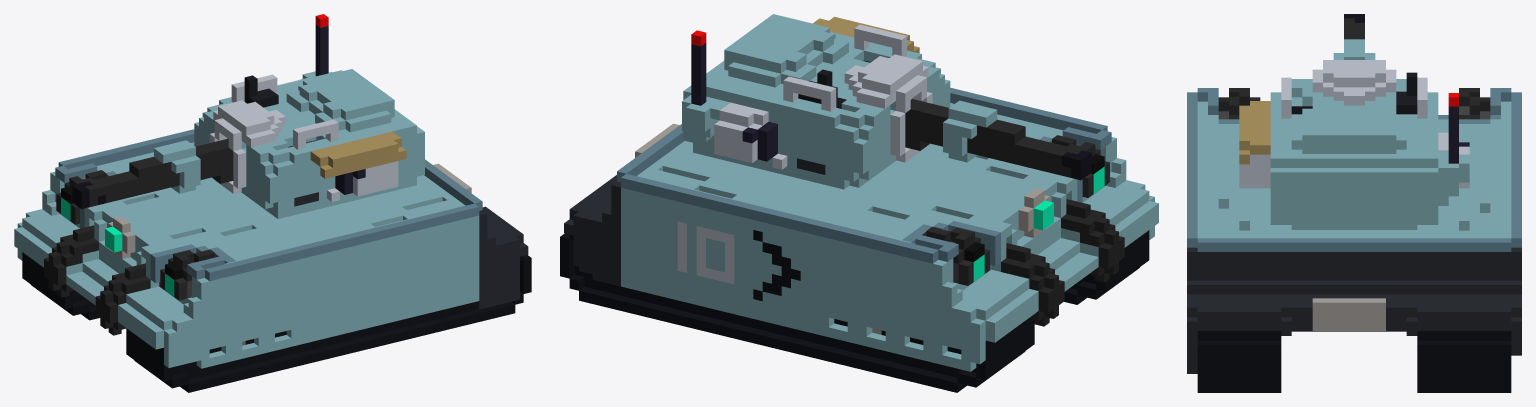
Rendered from Tank.obj.
3 renders of one model, left to right at view 1: azimuth 30°, elevation 25°; view 2: azimuth 150°, elevation 25°; view 3: azimuth 270°, elevation 25°, orthographic. The views are drawn at different scales.
Size of the model in its own units: 4.7 by 2.7 by 3.2.
1 material, 1 textured.
